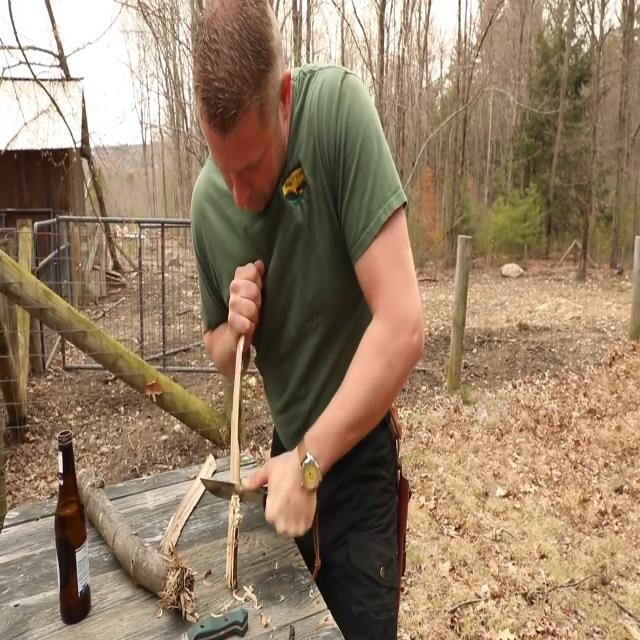knife: (200, 473, 272, 511)
